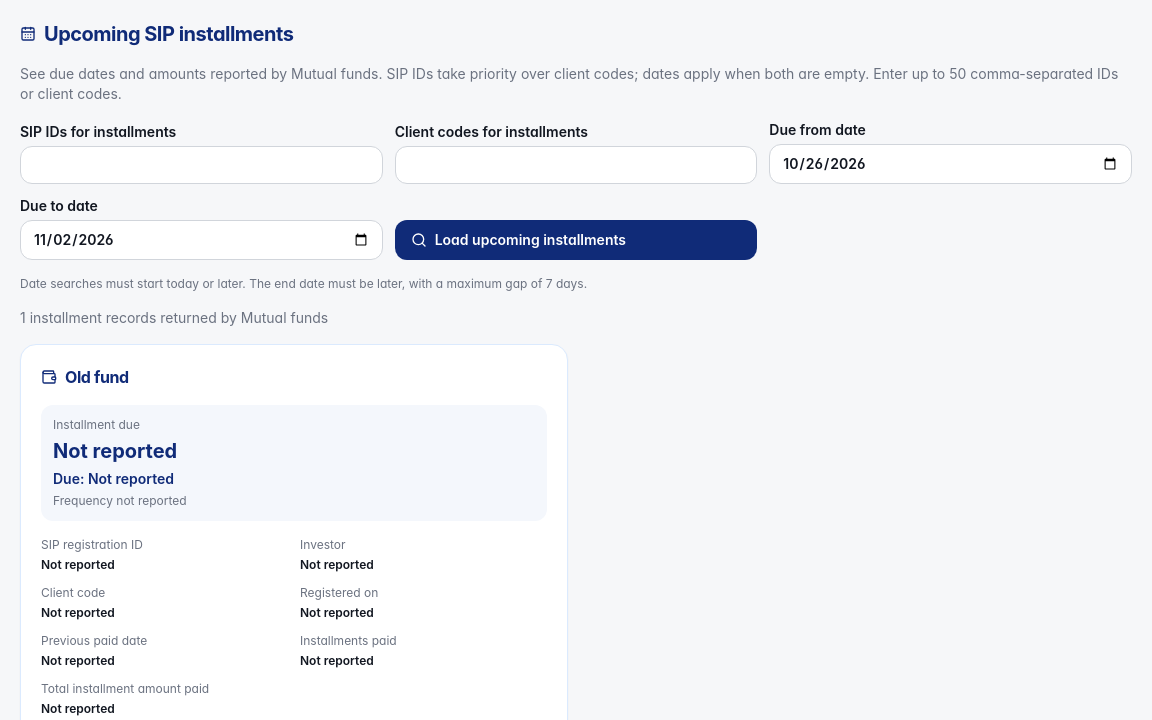
it: clears stale results and supports client-only searches
Check: the heading "Old fund" is shown, box [41, 367, 129, 387]
Type "TEST" into the field labelled "Client codes for installments" at (576, 165), box [395, 146, 757, 184]
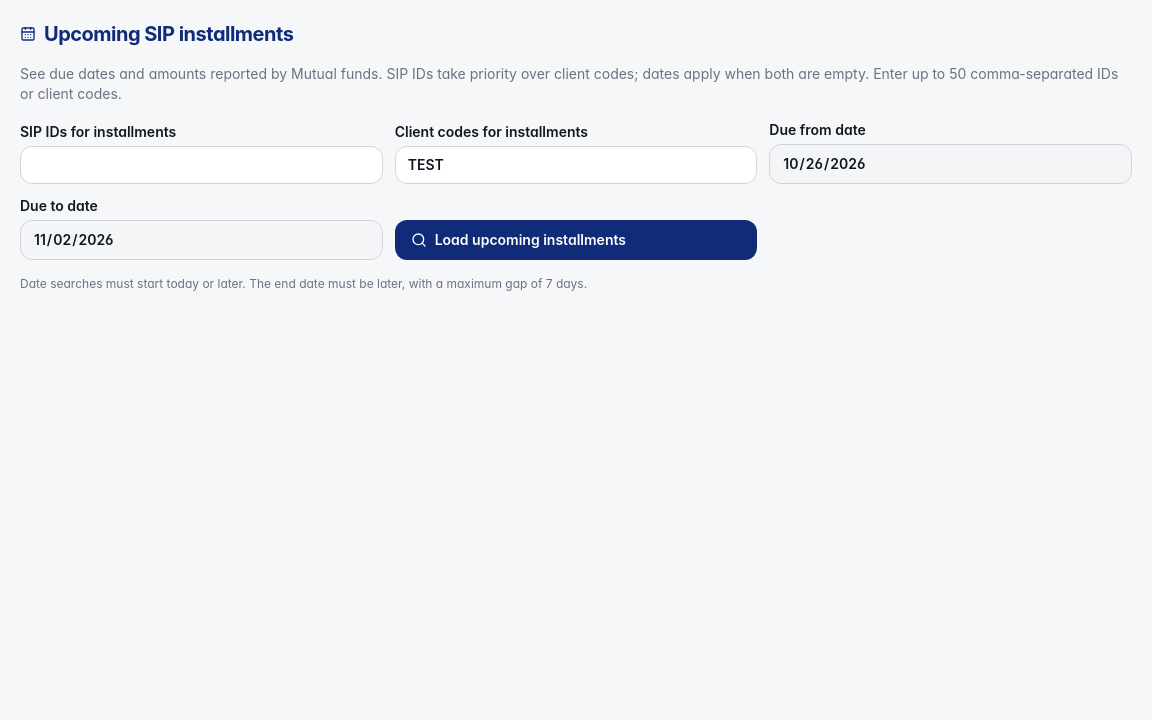
Check: the heading "Old fund" is gone
Click the button "Load upcoming installments" at (576, 240), box [395, 220, 757, 260]
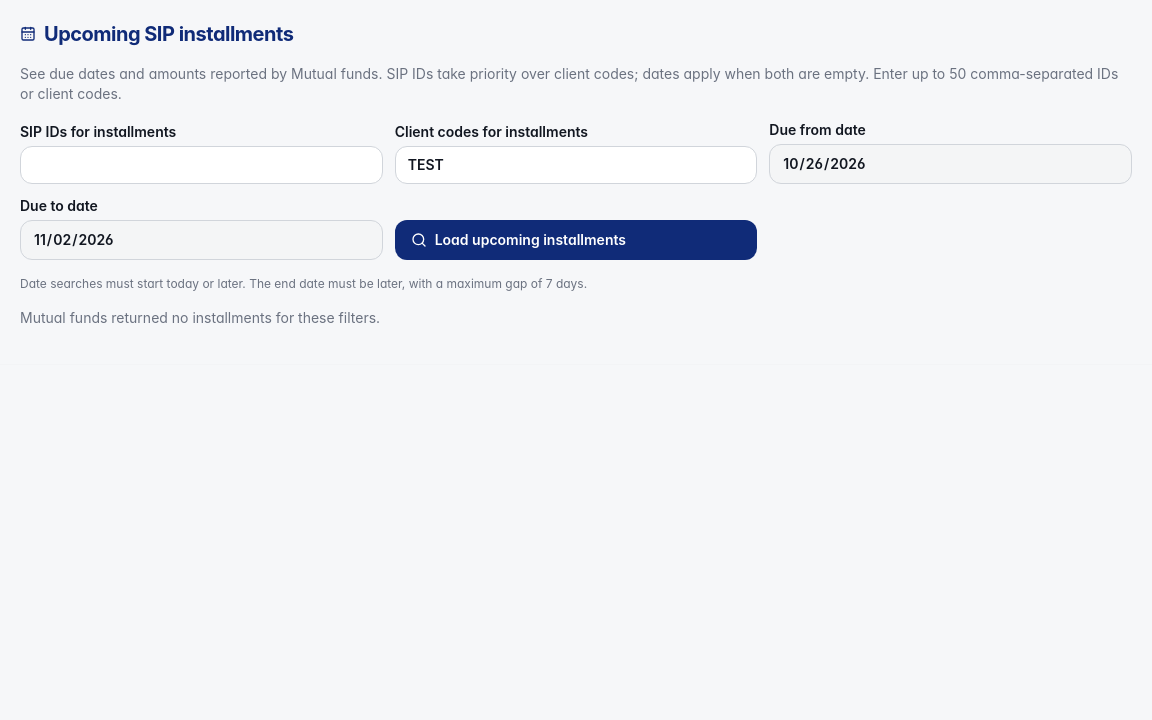
Check: the message shows "Mutual funds returned no installments", box [20, 309, 380, 326]
